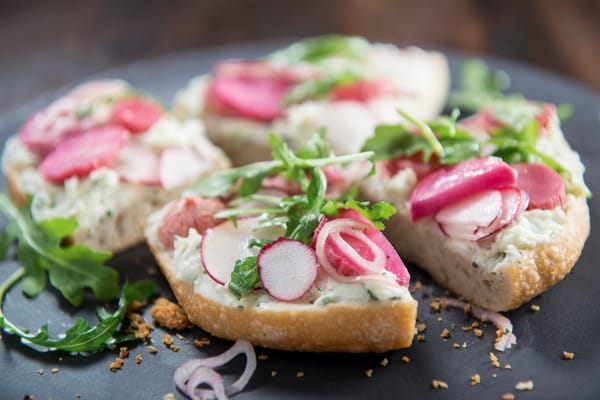soup: (144, 140, 420, 354)
